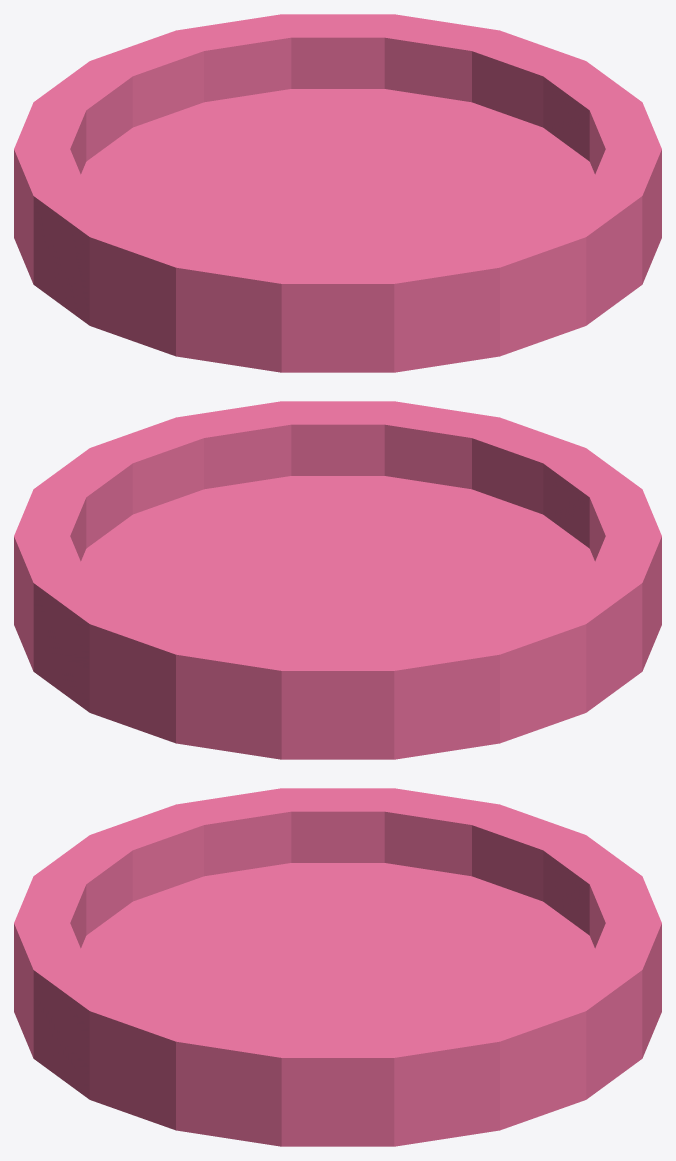
Rendered from plate.fbx.
3 renders of one model, top to bottom at view 1: azimuth 30°, elevation 25°; view 2: azimuth 150°, elevation 25°; view 3: azimuth 270°, elevation 25°, orthographic.
Visible parts, largest first — view 1: Cylinder; view 2: Cylinder; view 3: Cylinder.
Boxes of the visible parts, x1=… form: Cylinder: x1=14, y1=14, x2=661, y2=372; Cylinder: x1=14, y1=401, x2=661, y2=759; Cylinder: x1=14, y1=788, x2=661, y2=1146.
Bounding box in the file's own units: 197 × 30.24 × 200.
